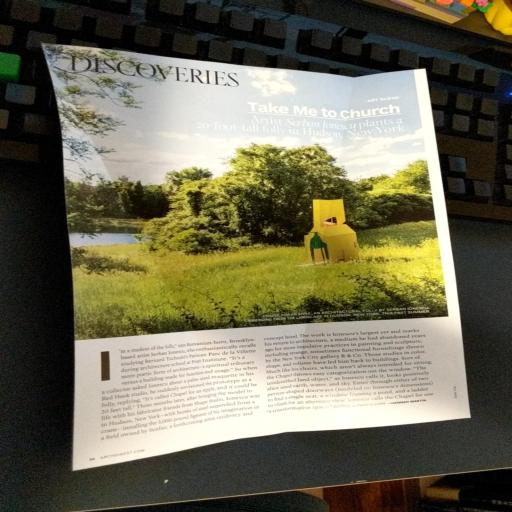paper: (23, 23, 507, 489)
